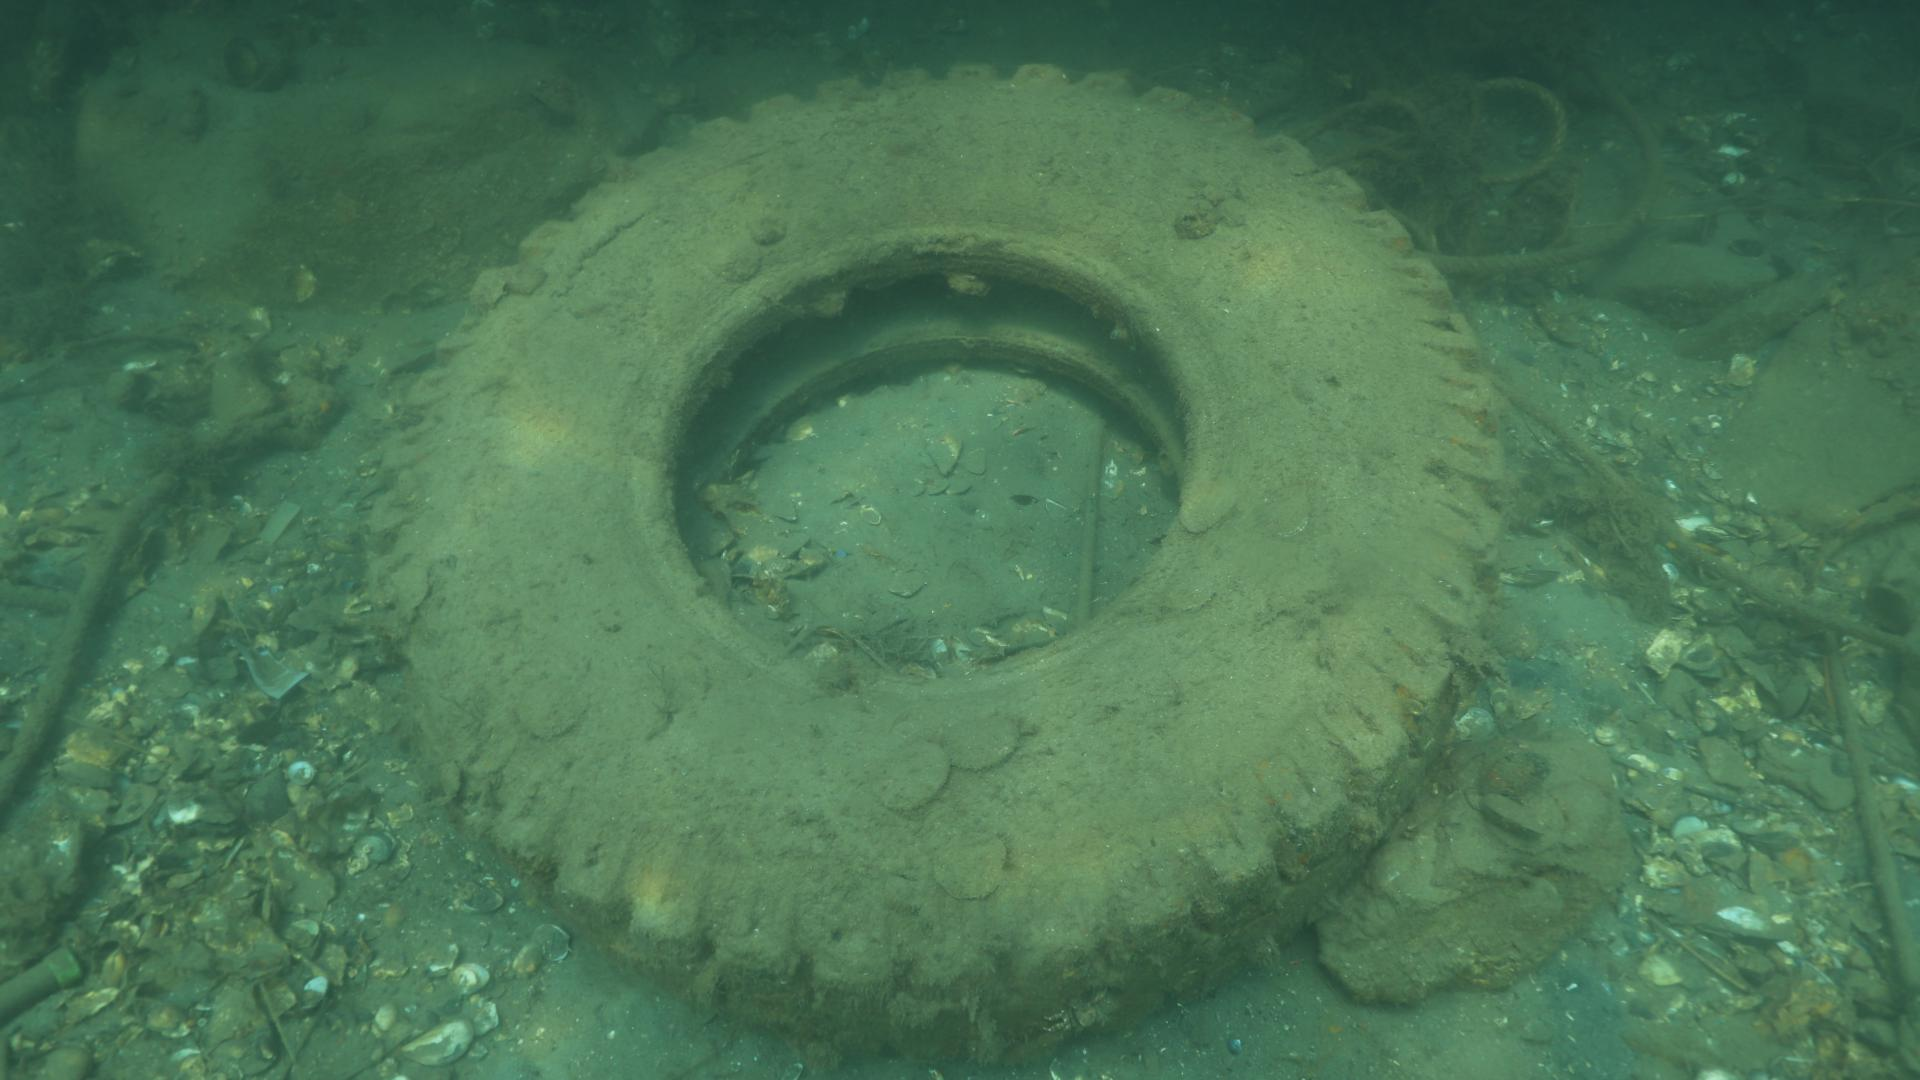tire: (371, 58, 1505, 1067)
